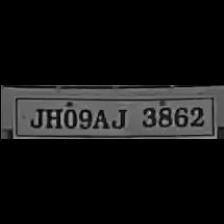0: (62, 105, 78, 128)
2: (186, 102, 206, 127)
3: (138, 104, 156, 128)
6: (172, 102, 188, 127)
8: (155, 102, 171, 127)
9: (74, 106, 92, 128)
A: (92, 106, 108, 128)
H: (40, 105, 61, 129)
J: (108, 105, 128, 129), (27, 105, 43, 129)
